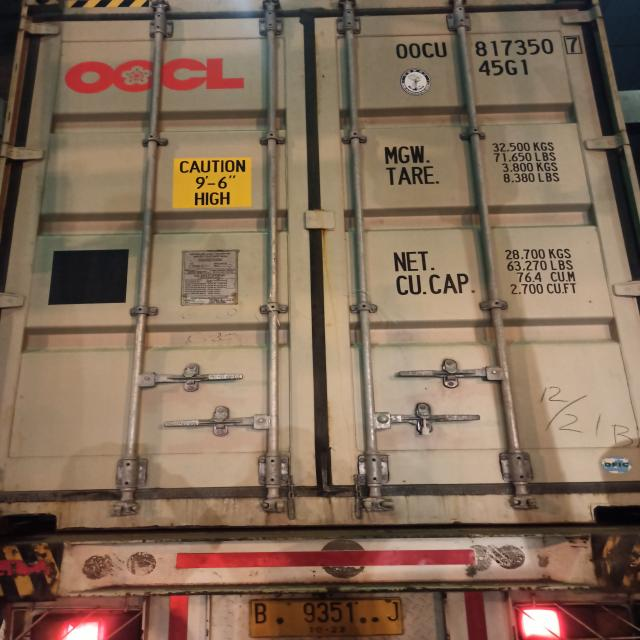seal: (418, 411, 431, 435)
